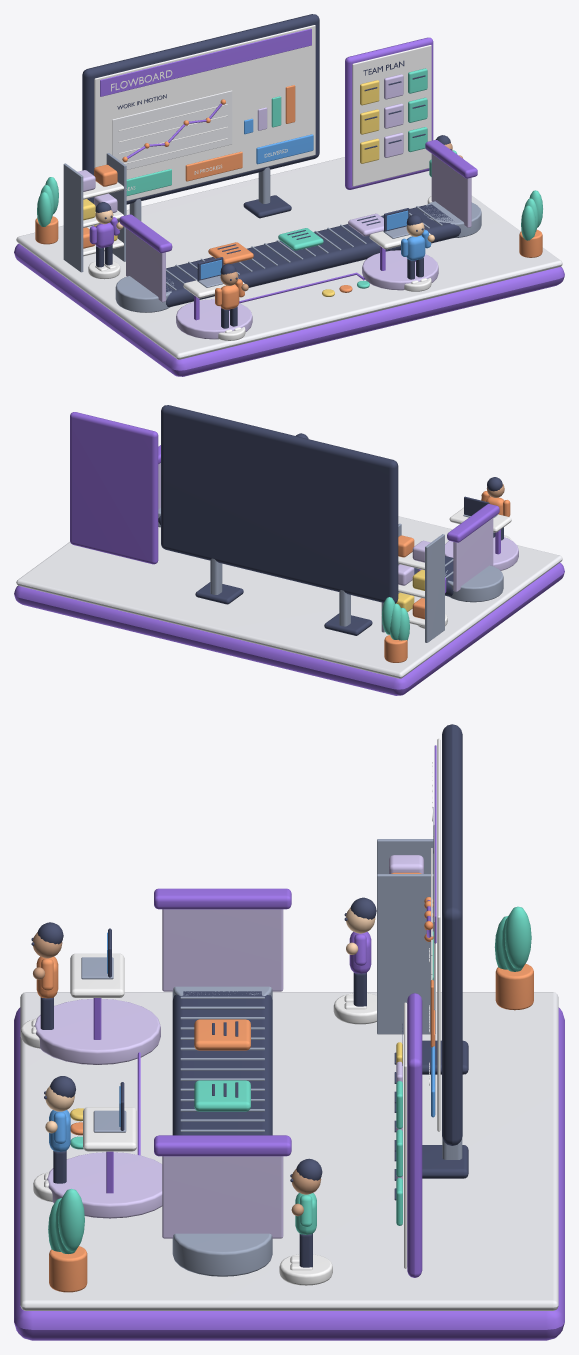
File: workspace.glb
3 views of the same model, one above another, from view 1: azimuth 30°, elevation 25°; view 2: azimuth 150°, elevation 25°; view 3: azimuth 270°, elevation 25° (orthographic). The views are drawn at different scales.
Visible parts, largest first — view 1: Porcelain stage, Dashboard surface, Studio foundation, Workflow belt, Kanban face, Chart panel, Dashboard housing, Dashboard header, Kanban stand, Shelf frame, Lane gate.001, Lane gate (+16 smaller); view 2: Dashboard housing, Porcelain stage, Kanban stand, Studio foundation, Shelf frame, Lane gate, Belt end drum, Gate top, Collaboration plinth, Monitor foot, Monitor foot.001, Planter.001 (+3 smaller); view 3: Porcelain stage, Studio foundation, Workflow belt, Lane gate, Lane gate.001, Dashboard housing, Shelf frame.001, Collaboration plinth, Collaboration plinth.001, Kanban stand, Belt end drum.001, Gate top (+15 smaller).
Boxes of the visible parts, left/top/right/bottom form: Porcelain stage: left=16, top=157, right=562, bottom=359; Dashboard surface: left=94, top=25, right=315, bottom=200; Studio foundation: left=14, top=243, right=564, bottom=376; Workflow belt: left=166, top=204, right=460, bottom=306; Kanban face: left=352, top=45, right=431, bottom=186; Chart panel: left=112, top=90, right=232, bottom=169; Dashboard housing: left=82, top=14, right=319, bottom=204; Dashboard header: left=100, top=28, right=311, bottom=96; Kanban stand: left=345, top=37, right=433, bottom=189; Shelf frame: left=63, top=163, right=83, bottom=272; Lane gate.001: left=431, top=154, right=471, bottom=227; Lane gate: left=126, top=228, right=165, bottom=302; Dashboard housing: left=161, top=405, right=398, bottom=603; Porcelain stage: left=16, top=516, right=562, bottom=678; Kanban stand: left=70, top=412, right=158, bottom=564; Studio foundation: left=14, top=562, right=564, bottom=695; Shelf frame: left=425, top=534, right=444, bottom=642; Lane gate: left=453, top=518, right=493, bottom=591; Belt end drum: left=445, top=565, right=503, bottom=602; Gate top: left=447, top=504, right=499, bottom=542; Collaboration plinth: left=445, top=537, right=518, bottom=570; Monitor foot: left=324, top=613, right=372, bottom=635; Monitor foot.001: left=195, top=582, right=243, bottom=604; Planter.001: left=384, top=635, right=407, bottom=662; Porcelain stage: left=20, top=992, right=558, bottom=1310; Studio foundation: left=14, top=1007, right=564, bottom=1340; Workflow belt: left=172, top=991, right=272, bottom=1135; Lane gate: left=162, top=909, right=283, bottom=991; Lane gate.001: left=162, top=1156, right=283, bottom=1238; Dashboard housing: left=442, top=724, right=462, bottom=1145; Shelf frame.001: left=377, top=874, right=435, bottom=1034; Collaboration plinth: left=34, top=999, right=160, bottom=1064; Collaboration plinth.001: left=47, top=1152, right=162, bottom=1218; Kanban stand: left=407, top=993, right=422, bottom=1277; Belt end drum.001: left=172, top=1233, right=272, bottom=1276; Gate top: left=154, top=888, right=291, bottom=909.
Size of what is drawn, in the model's own units: 9 by 4.5 by 6.6.
